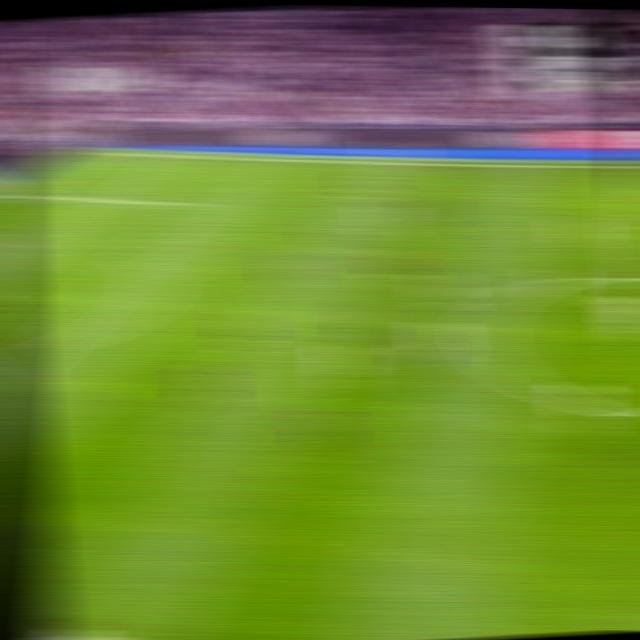bigarea_top_inner: (176, 195, 209, 212)
bottom_arc_area_intersection: (28, 335, 64, 355)
corner: (70, 145, 104, 156)
halfcircle_bottom: (626, 400, 640, 430)
halfcircle_top: (615, 265, 640, 290)
midline_top_intersection: (612, 159, 640, 172)
top_arc_area_intersection: (119, 250, 153, 268)
